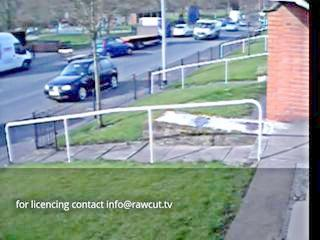Car: (53, 57, 116, 98), (0, 33, 33, 72), (119, 21, 164, 47), (95, 38, 132, 57), (195, 20, 221, 40), (172, 23, 195, 36)
Minor Accident: (100, 30, 145, 56)
